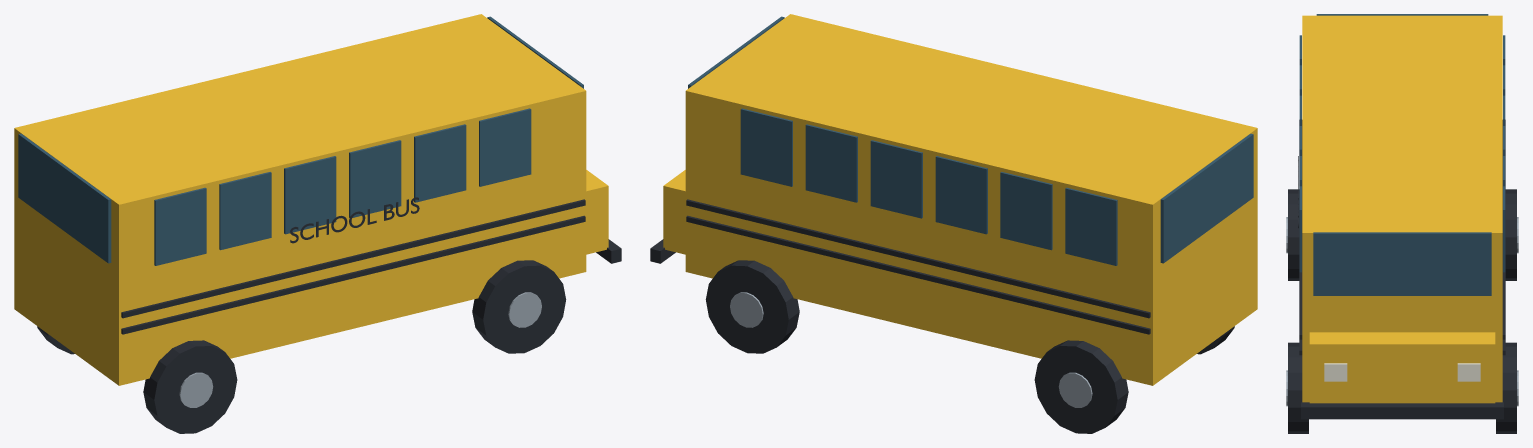
Rendered from bus.glb.
3 renders of one model, left to right at view 1: azimuth 30°, elevation 25°; view 2: azimuth 150°, elevation 25°; view 3: azimuth 270°, elevation 25°, orthographic. The views are drawn at different scales.
Visible parts, largest first — view 1: Yellow_body, Rear_window, Wheel.002, Wheel, Side_window, Side_window.005, Side_window.001, Side_window.004, Side_window.002, Side_window.003, Safety_stripe.001, Safety_stripe (+4 smaller); view 2: Yellow_body, Rear_window, Wheel.003, Wheel.001, Side_window.006, Side_window.008, Side_window.010, Side_window.011, Side_window.007, Side_window.009, Safety_stripe.003, Safety_stripe.002 (+3 smaller); view 3: Yellow_body, Hood, Front_windshield, Front_bumper, Wheel.002, Wheel.003, Wheel, Wheel.001, Safety_stripe.001, Safety_stripe.003, Headlight, Headlight.001 (+3 smaller).
Part boxes in pixels (bbox=[...]): Yellow_body: bbox=[14, 14, 586, 385]; Rear_window: bbox=[18, 133, 111, 263]; Wheel.002: bbox=[472, 260, 566, 353]; Wheel: bbox=[143, 340, 237, 433]; Side_window: bbox=[154, 187, 206, 265]; Side_window.005: bbox=[479, 108, 531, 186]; Side_window.001: bbox=[219, 172, 271, 250]; Side_window.004: bbox=[414, 124, 466, 202]; Side_window.002: bbox=[284, 156, 336, 234]; Side_window.003: bbox=[349, 140, 401, 217]; Safety_stripe.001: bbox=[121, 199, 585, 318]; Safety_stripe: bbox=[121, 215, 585, 334]; Yellow_body: bbox=[685, 14, 1257, 385]; Rear_window: bbox=[1160, 133, 1253, 263]; Wheel.003: bbox=[705, 260, 799, 353]; Wheel.001: bbox=[1034, 340, 1128, 433]; Side_window.006: bbox=[1065, 187, 1117, 265]; Side_window.008: bbox=[935, 156, 987, 234]; Side_window.010: bbox=[805, 124, 857, 202]; Side_window.011: bbox=[740, 108, 792, 186]; Side_window.007: bbox=[1000, 172, 1052, 250]; Side_window.009: bbox=[870, 140, 922, 218]; Safety_stripe.003: bbox=[686, 199, 1150, 318]; Safety_stripe.002: bbox=[686, 215, 1150, 334]; Yellow_body: bbox=[1302, 15, 1502, 402]; Hood: bbox=[1309, 332, 1495, 403]; Front_windshield: bbox=[1313, 232, 1491, 295]; Front_bumper: bbox=[1301, 402, 1503, 419]; Wheel.002: bbox=[1288, 342, 1308, 433]; Wheel.003: bbox=[1496, 342, 1516, 433]; Wheel: bbox=[1288, 189, 1299, 280]; Wheel.001: bbox=[1505, 189, 1516, 280]; Safety_stripe.001: bbox=[1299, 120, 1302, 339]; Safety_stripe.003: bbox=[1502, 120, 1505, 339]; Headlight: bbox=[1324, 363, 1347, 381]; Headlight.001: bbox=[1457, 363, 1480, 381].
Bounding box in the file's own units: 5.84 × 2.66 × 2.44.
